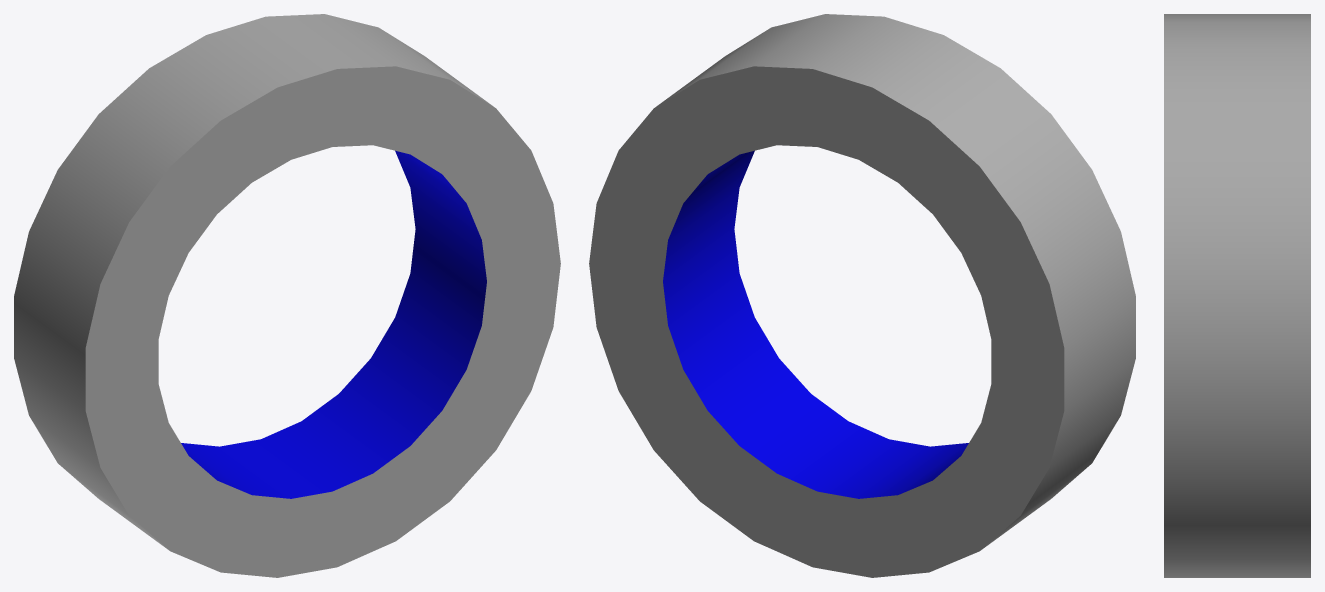
The model's file is Ring_Small.fbx.
3 renders of one model, left to right at view 1: azimuth 30°, elevation 25°; view 2: azimuth 150°, elevation 25°; view 3: azimuth 270°, elevation 25°, orthographic. The views are drawn at different scales.
Visible parts, largest first — view 1: RingSmall:pCylinder1; view 2: RingSmall:pCylinder1; view 3: RingSmall:pCylinder1.
Boxes of the visible parts, x1,y1,x2,y2 form: RingSmall:pCylinder1: (14, 14, 560, 577); RingSmall:pCylinder1: (589, 14, 1135, 577); RingSmall:pCylinder1: (1164, 14, 1310, 577).
Bounding box in the file's own units: 1.9 × 1.91 × 0.4962.
